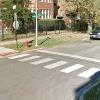Crosswalk: (12, 44, 90, 78)
